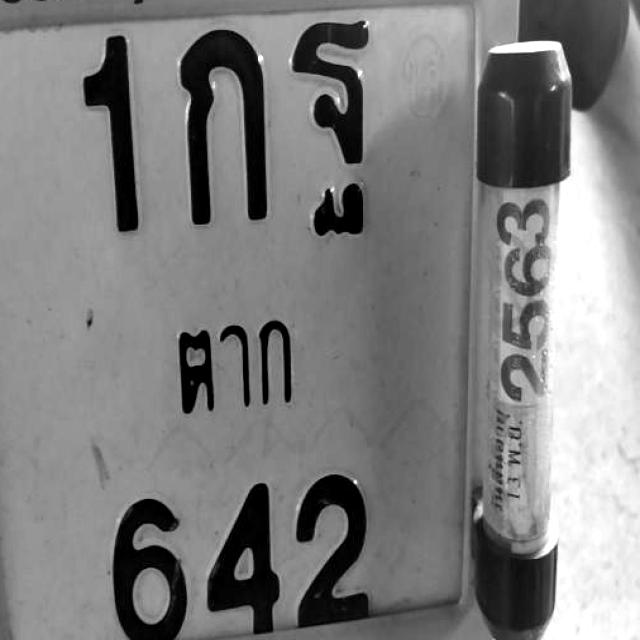letters: (269, 10, 381, 269), (158, 20, 269, 219), (284, 454, 386, 634), (82, 25, 165, 222), (193, 473, 290, 636), (114, 485, 188, 640)
license-plate: (0, 0, 507, 640)
province: (155, 290, 316, 440)
